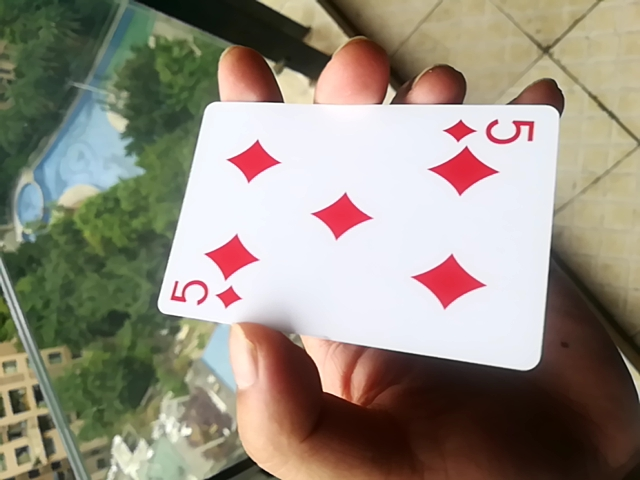fk 5: (145, 102, 573, 374)
